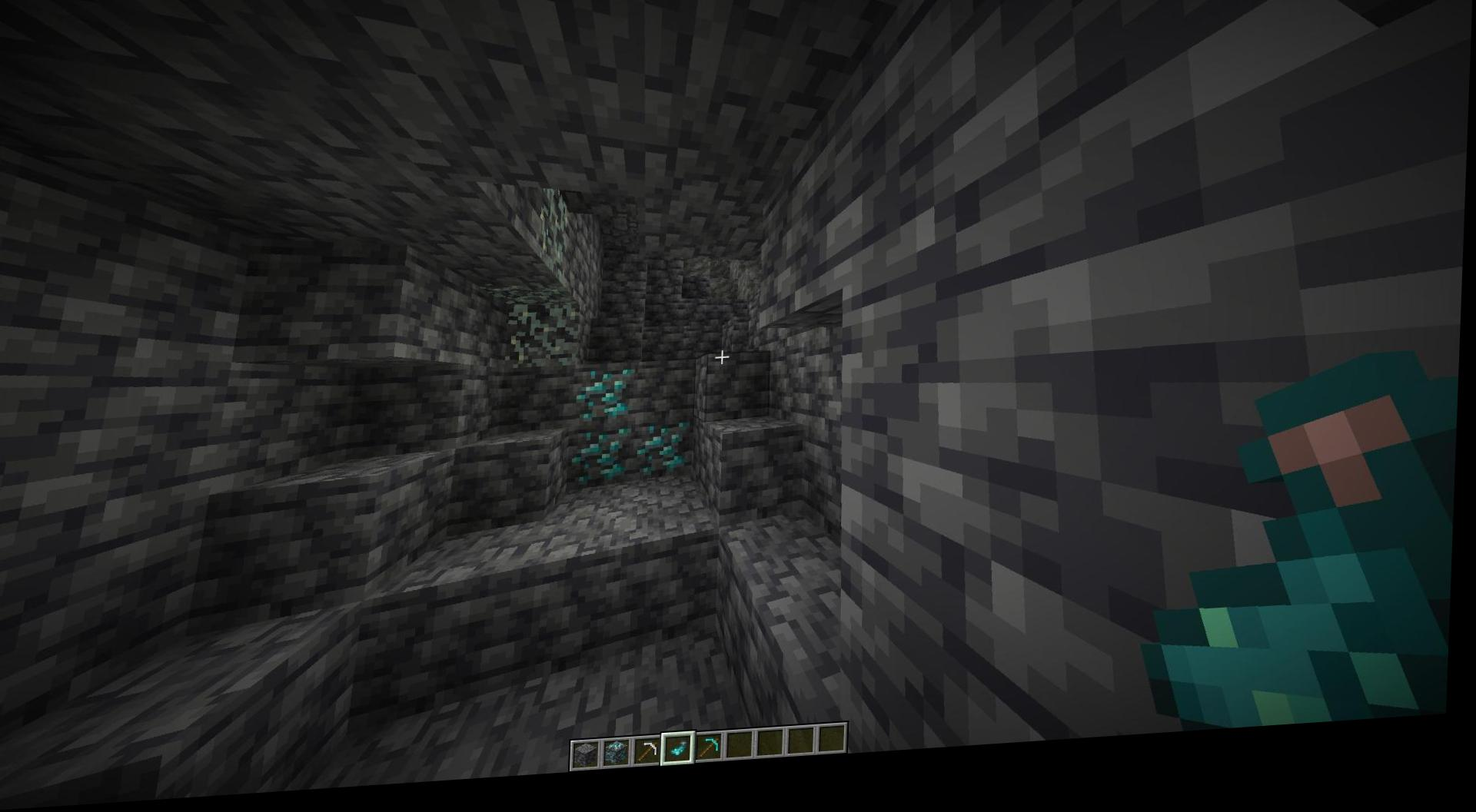diamond ore: (572, 431, 637, 497), (634, 424, 696, 493), (575, 371, 639, 430)
